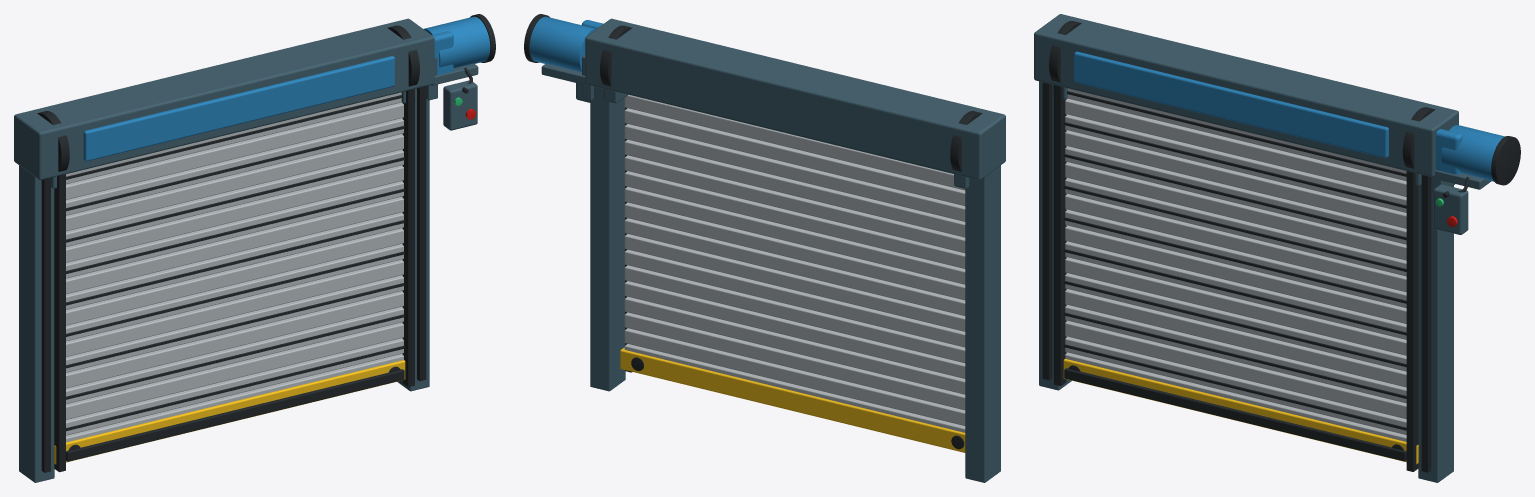
File: count_display.glb
The picture shows the model from 3 angles, left to right: view 1: azimuth 30°, elevation 25°; view 2: azimuth 150°, elevation 25°; view 3: azimuth 330°, elevation 25°; orthographic projection.
Visible parts, largest first — view 1: SHUTTER_header, SHUTTER_header_access_cover, SHUTTER_guide_-2.25, KIN_slat_13, KIN_slat_7, KIN_slat_9, KIN_slat_11, KIN_slat_3, KIN_slat_5, KIN_slat_15, KIN_slat_1, KIN_slat_4 (+30 smaller); view 2: SHUTTER_header, SHUTTER_guide_-2.25, SHUTTER_guide_2.25, KIN_bottom_bar, KIN_slat_6, KIN_slat_7, KIN_slat_4, KIN_slat_11, KIN_slat_2, KIN_slat_3, KIN_slat_5, KIN_slat_8 (+13 smaller); view 3: SHUTTER_header, SHUTTER_header_access_cover, SHUTTER_guide_2.25, KIN_slat_3, KIN_slat_7, KIN_slat_5, KIN_slat_11, KIN_slat_15, KIN_slat_1, KIN_slat_9, KIN_slat_13, KIN_slat_16 (+32 smaller).
Part boxes in pixels (x1,y1,x2,y2): SHUTTER_header: [14, 18, 434, 180]; SHUTTER_header_access_cover: [83, 56, 394, 161]; SHUTTER_guide_-2.25: [19, 165, 54, 482]; KIN_slat_13: [66, 291, 403, 388]; KIN_slat_7: [66, 196, 403, 294]; KIN_slat_9: [66, 228, 403, 325]; KIN_slat_11: [66, 259, 403, 356]; KIN_slat_3: [66, 133, 403, 231]; KIN_slat_5: [66, 165, 403, 262]; KIN_slat_15: [66, 322, 403, 419]; KIN_slat_1: [66, 102, 403, 199]; KIN_slat_4: [66, 149, 403, 246]; SHUTTER_header: [585, 18, 1005, 180]; SHUTTER_guide_-2.25: [965, 165, 1000, 482]; SHUTTER_guide_2.25: [590, 86, 625, 391]; KIN_bottom_bar: [620, 347, 965, 452]; KIN_slat_6: [624, 171, 965, 268]; KIN_slat_7: [624, 186, 965, 284]; KIN_slat_4: [624, 139, 965, 237]; KIN_slat_11: [624, 249, 965, 347]; KIN_slat_2: [624, 108, 965, 205]; KIN_slat_3: [624, 124, 965, 221]; KIN_slat_5: [624, 155, 965, 253]; KIN_slat_8: [624, 202, 965, 300]; SHUTTER_header: [1034, 14, 1458, 177]; SHUTTER_header_access_cover: [1074, 51, 1388, 157]; SHUTTER_guide_2.25: [1418, 177, 1453, 482]; KIN_slat_3: [1065, 130, 1406, 228]; KIN_slat_7: [1065, 193, 1406, 292]; KIN_slat_5: [1065, 162, 1406, 260]; KIN_slat_11: [1065, 257, 1406, 355]; KIN_slat_15: [1065, 320, 1406, 419]; KIN_slat_1: [1065, 98, 1406, 196]; KIN_slat_9: [1065, 225, 1406, 323]; KIN_slat_13: [1065, 289, 1406, 387]; KIN_slat_16: [1065, 336, 1406, 434].
Size of the model in its own units: 5.48 by 4.1 by 0.815.
